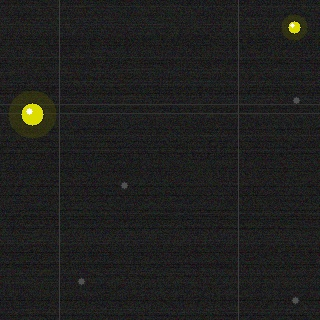yellow_warning: (19, 101, 45, 127), (286, 19, 302, 35)
